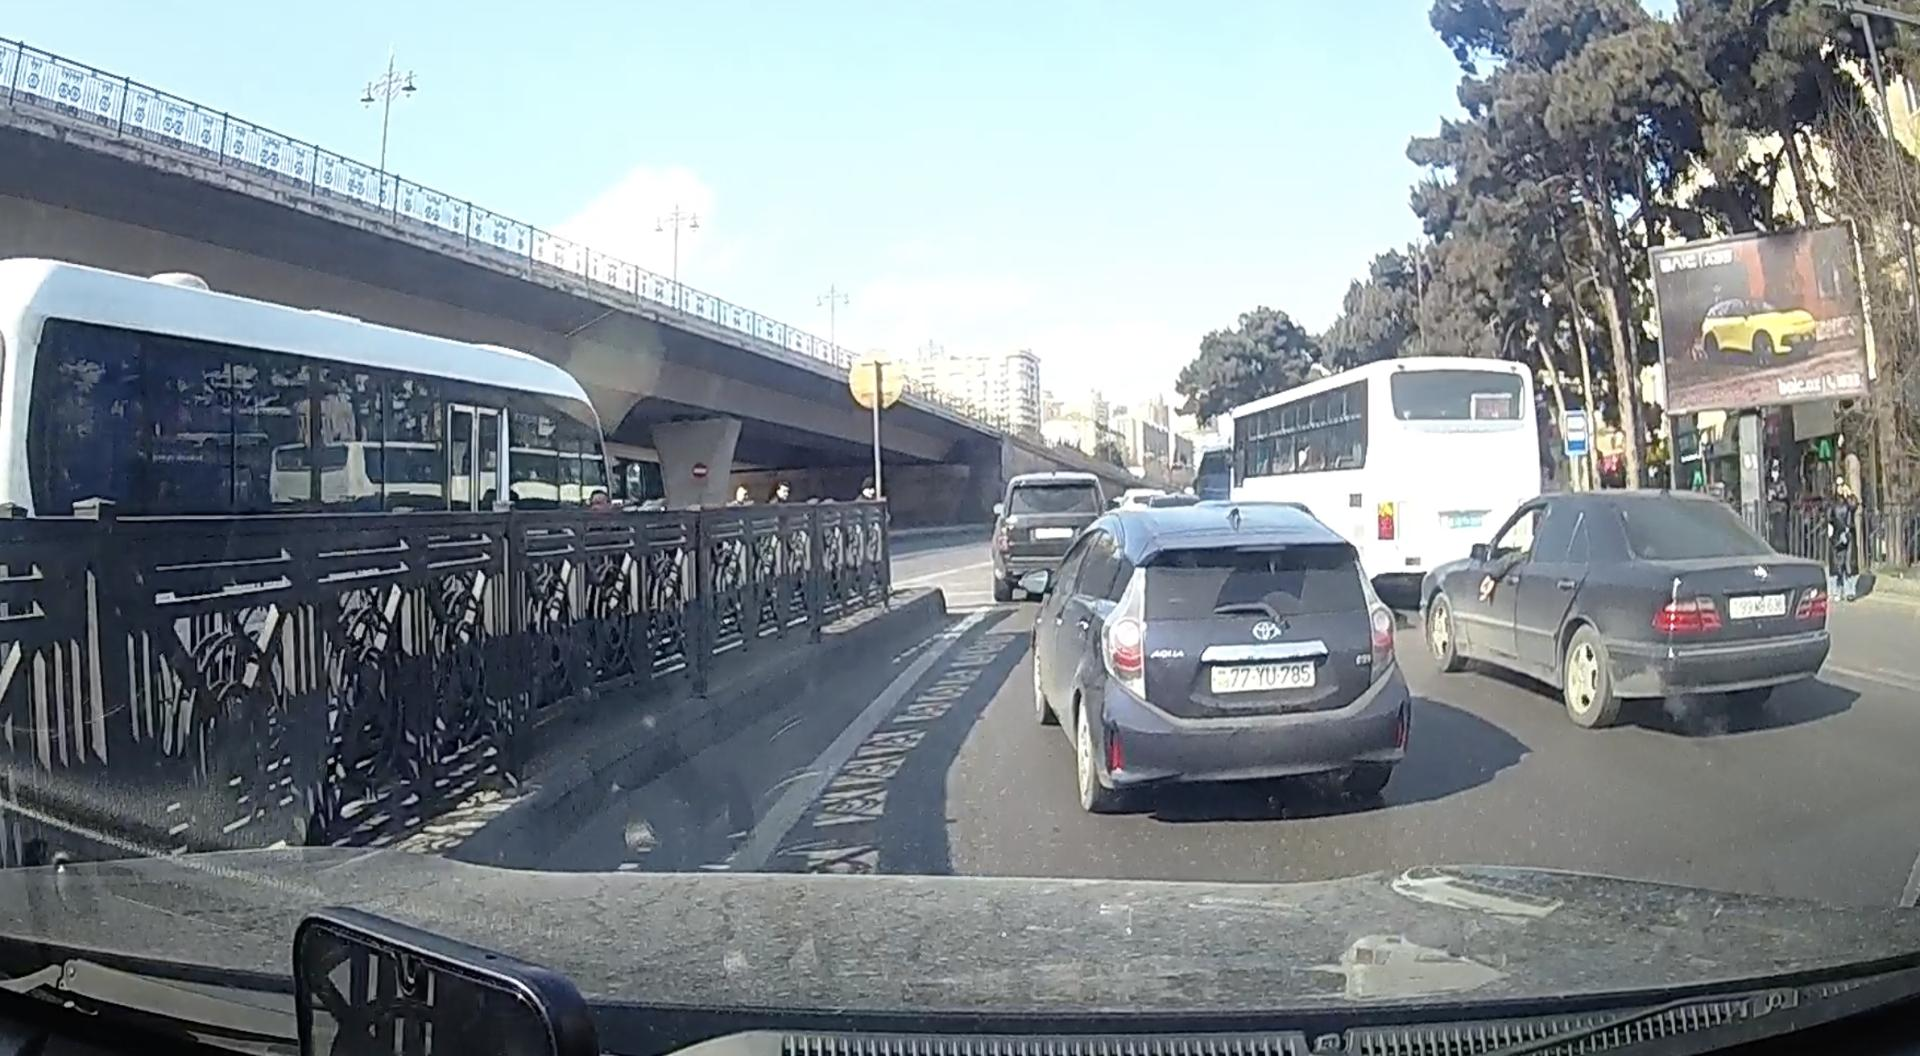banner: (1647, 220, 1872, 417)
